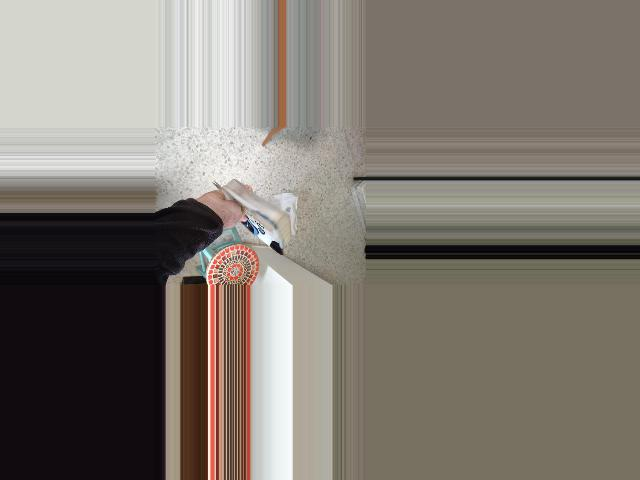cheese: (199, 170, 304, 266)
